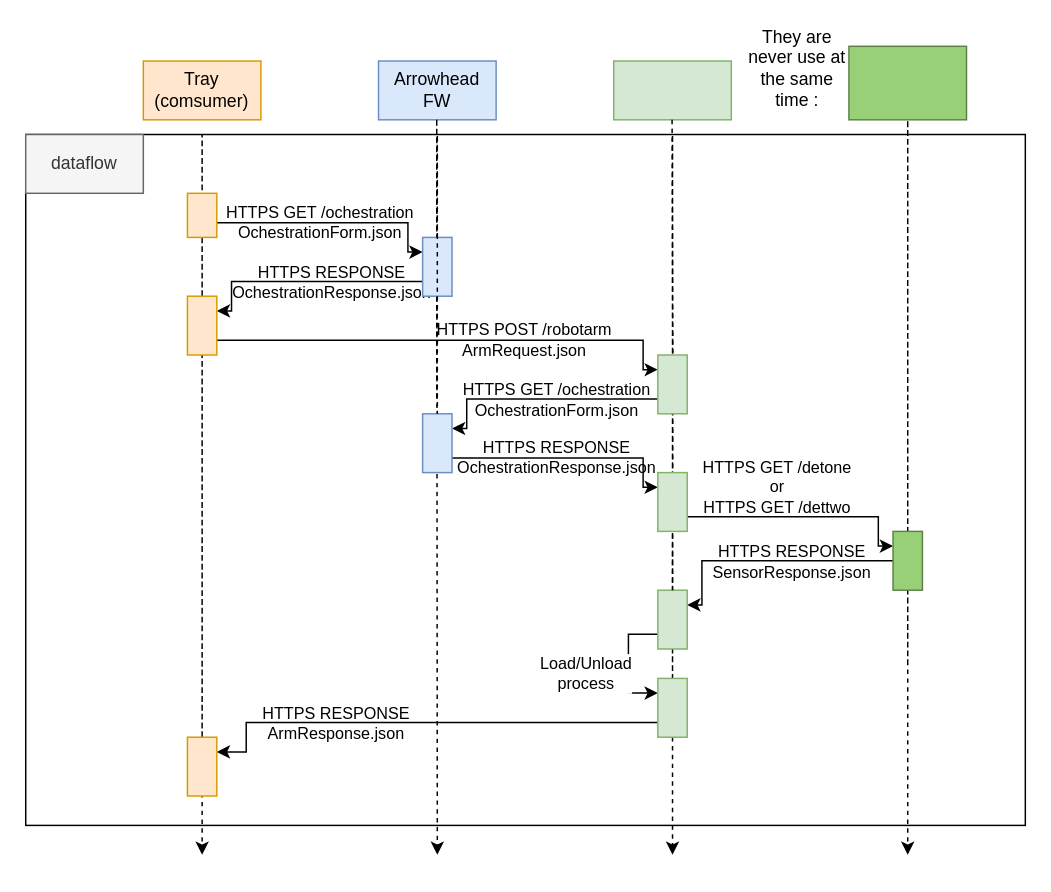
Some shapes in this 1051 by 892 pixel diagram are drawn without their labels. Here are the shapes that lost their labels. From the top down, the centre of each, then its label:
At point 671,90: "Robot Arm (both)".
At point 907,82: "Detector (1 or 2) (provider)".
